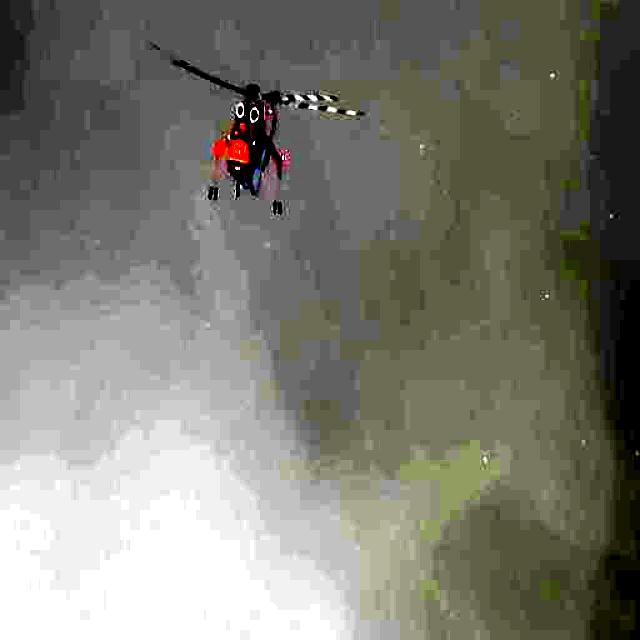drone: (198, 39, 338, 254)
